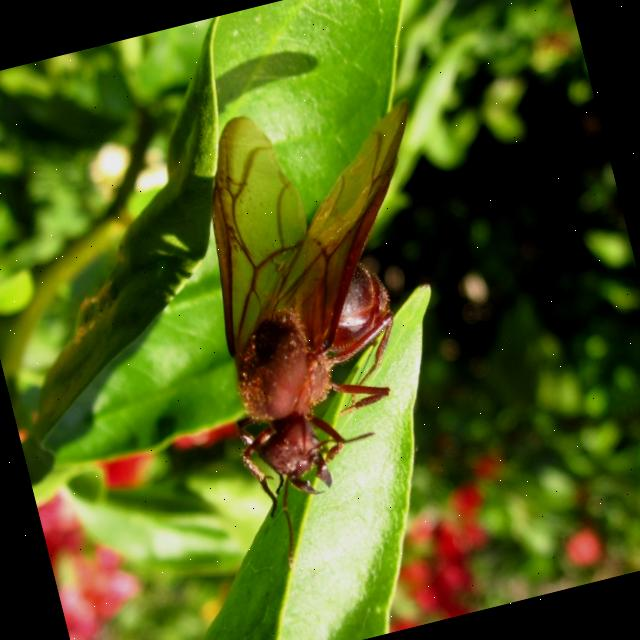Alive-Female-Alate: (161, 78, 501, 522)
